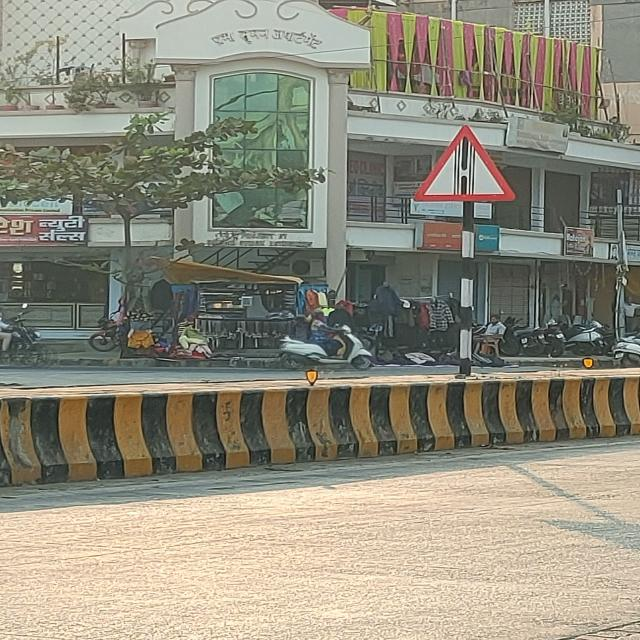ferry: (413, 125, 518, 202)
